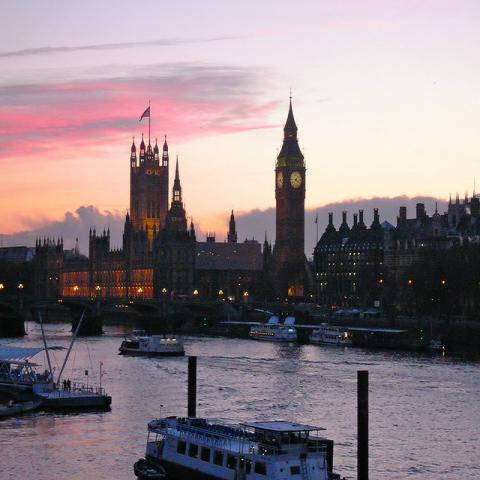car: (363, 309, 377, 316), (350, 309, 360, 315)
